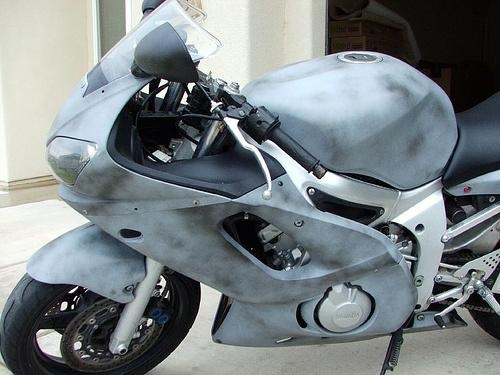motorbike: (1, 4, 500, 374)
